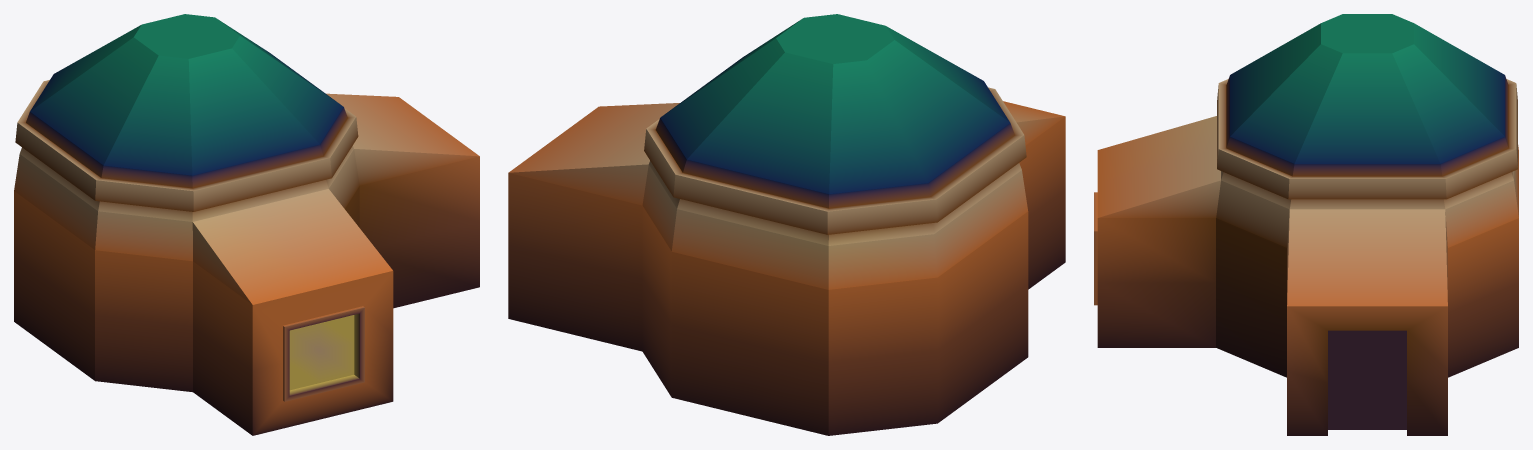
The model's file is Mercona_hut_2.obj.
3 renders of one model, left to right at view 1: azimuth 30°, elevation 25°; view 2: azimuth 150°, elevation 25°; view 3: azimuth 270°, elevation 25°, orthographic. The views are drawn at different scales.
Visible parts, largest first — view 1: Mercona_hut_2; view 2: Mercona_hut_2; view 3: Mercona_hut_2.
Part boxes in pixels (box(x1,y1,x2,y2)): Mercona_hut_2: box(14, 14, 479, 435); Mercona_hut_2: box(508, 14, 1065, 435); Mercona_hut_2: box(1094, 14, 1518, 435).
Size of the model in its own units: 11.42 by 8.02 by 11.02.
